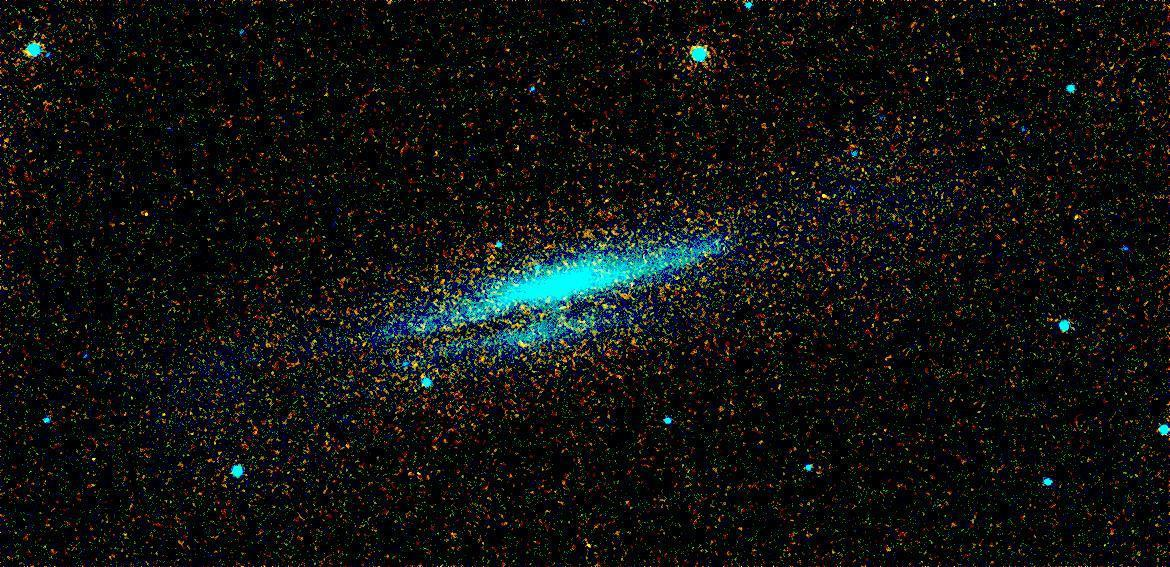star: (805, 181, 835, 211)
